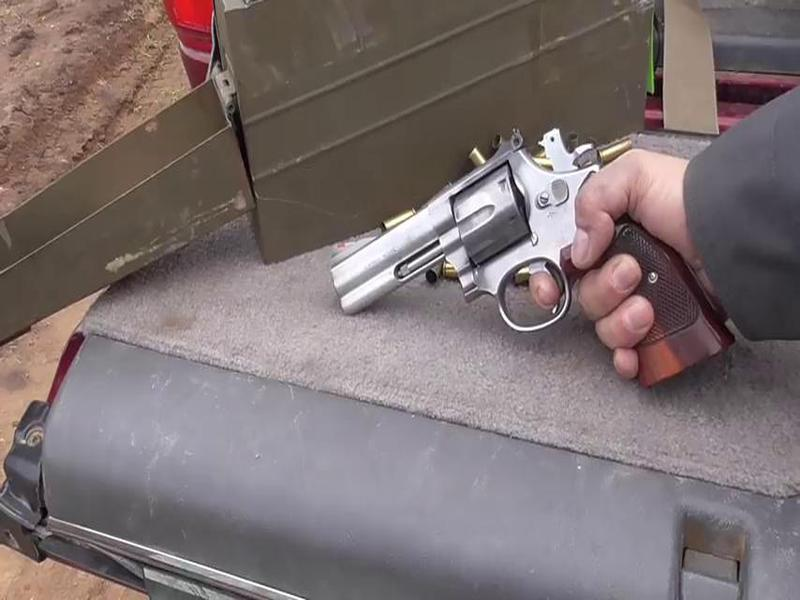Revolver: (320, 123, 665, 395)
